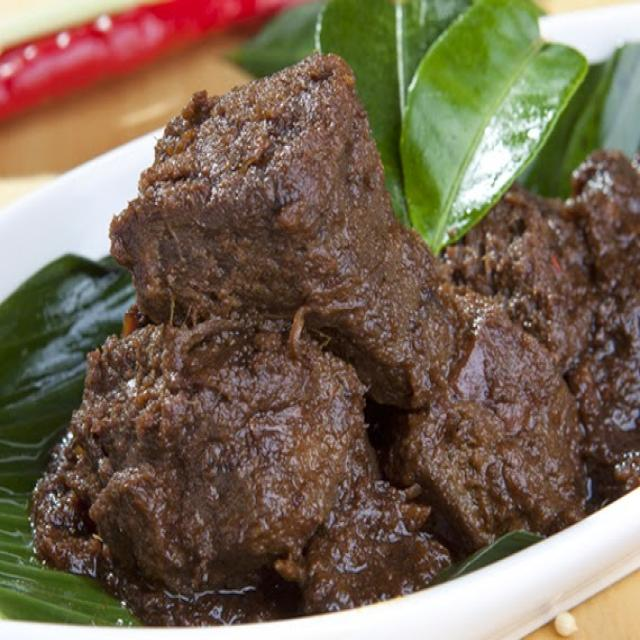Wet Waste: (27, 48, 640, 623)
